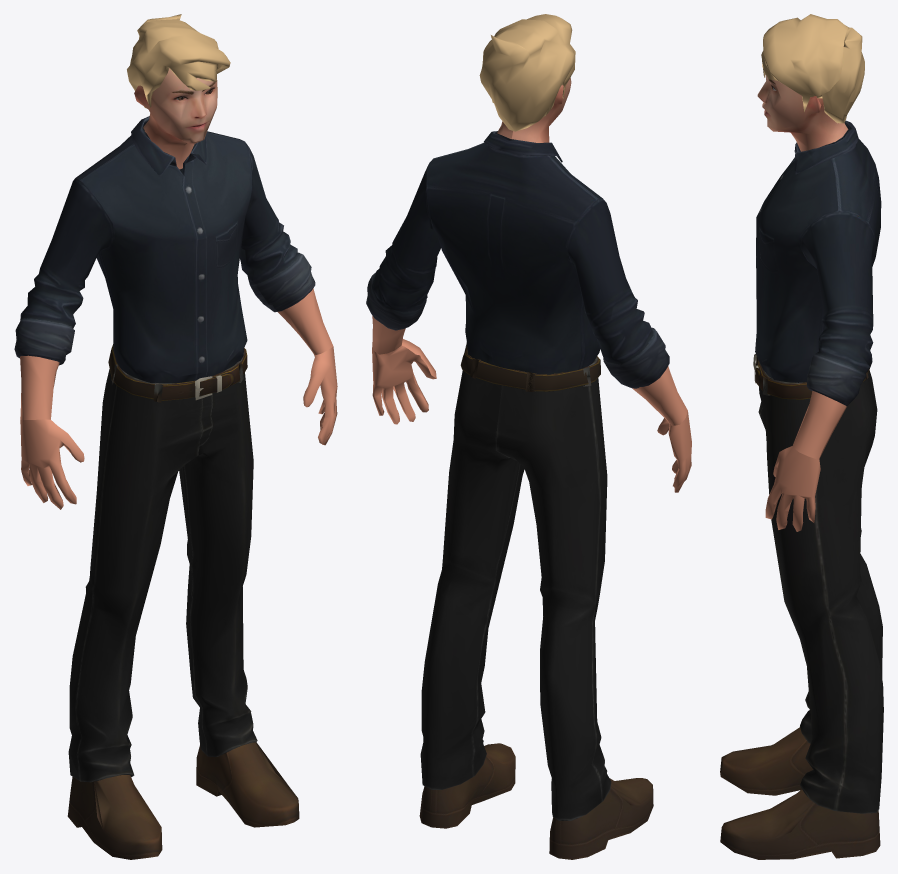
The model's file is Son 1.fbx.
3 views of the same model, side by side, from view 1: azimuth 30°, elevation 25°; view 2: azimuth 150°, elevation 25°; view 3: azimuth 270°, elevation 25° (orthographic).
Parts seen in each view (by area): view 1: man; view 2: man; view 3: man.
Part boxes in pixels (x1,y1,x2,y2): man: (14, 14, 337, 859); man: (366, 14, 691, 859); man: (720, 14, 883, 859).
Size of the model in its own units: 76.26 by 186 by 34.81.
Materials: 1 (1 with a texture image).
